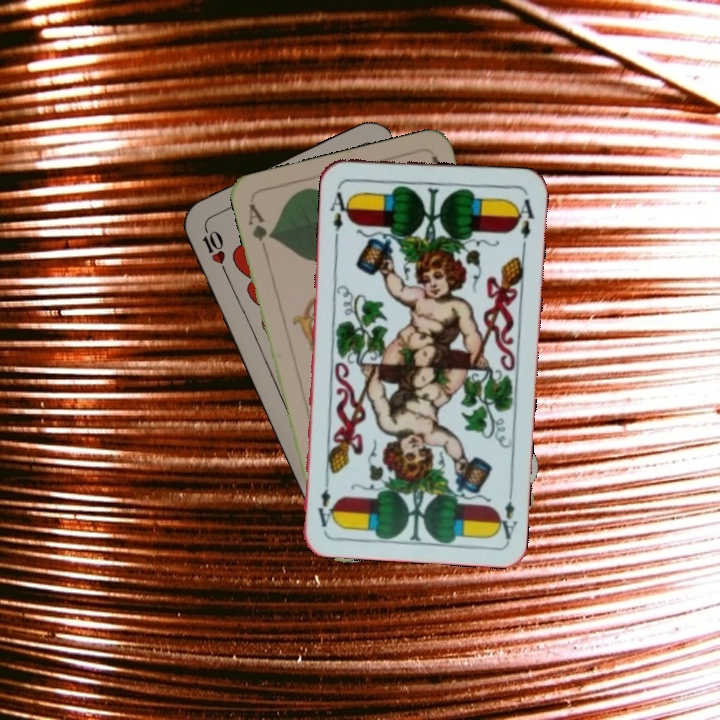EA: (325, 182, 353, 241), (492, 483, 520, 542)
GA: (244, 199, 275, 257)
H10: (198, 221, 230, 277)
